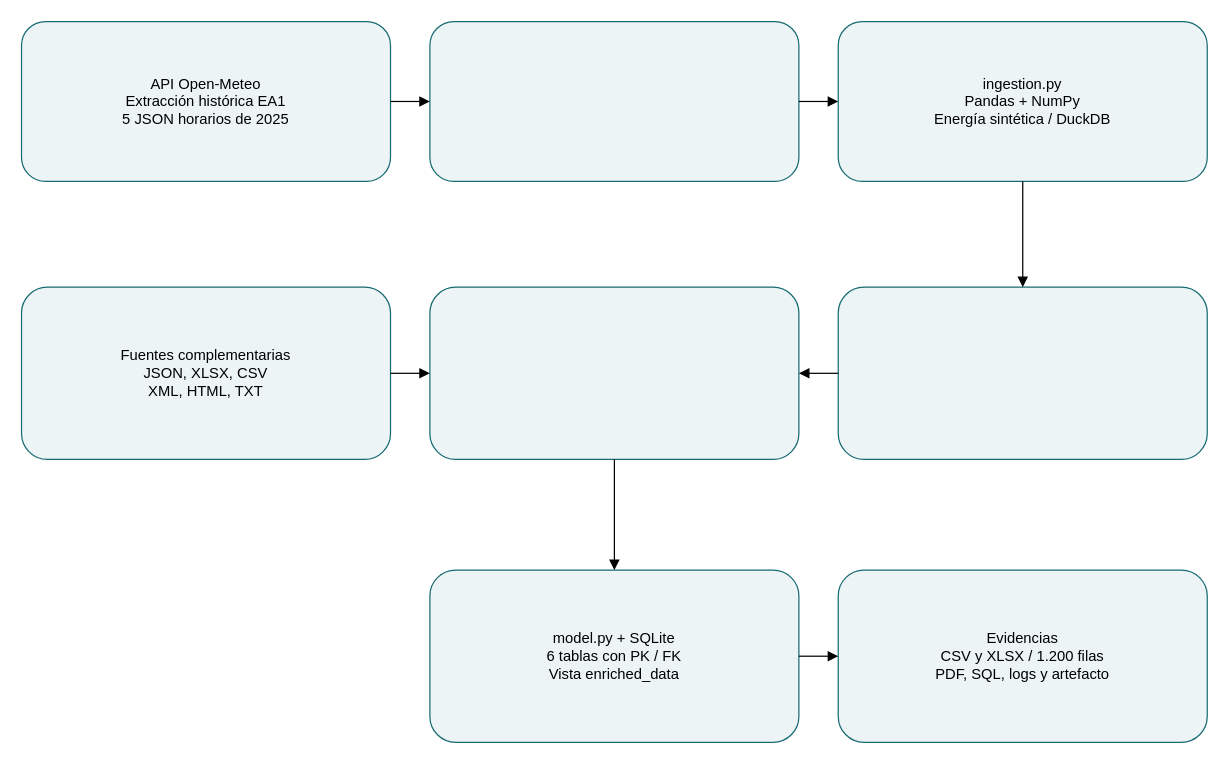
Some shapes in this 1229 by 764 pixel diagram are drawn without their labels. The box of each missing label's shape, as (x1, y1, x2, y2) in pixels:
cleaning.py Hechos + dimensiones 32 columnas / auditoría: (837, 286, 1207, 459)
enrichment.py 6 cruces LEFT N:1 63 columnas / auditoría: (429, 286, 799, 459)
Respuestas archivadas JSON + SHA-256 Replay sin red en CI: (429, 20, 799, 181)
